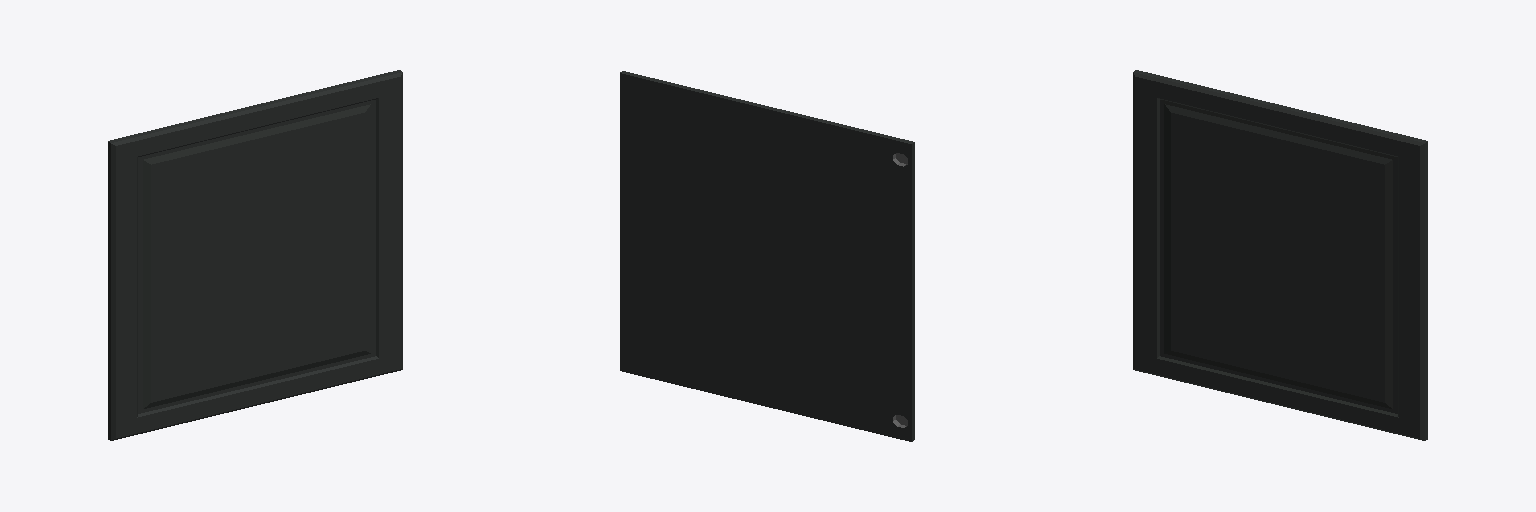
Rendered from IKEA.ART.40221448.obj.
The picture shows the model from 3 angles: view 1: azimuth 30°, elevation 25°; view 2: azimuth 150°, elevation 25°; view 3: azimuth 330°, elevation 25°; orthographic projection.
Parts seen in each view (by area): view 1: model_model.037; view 2: model_model.037; view 3: model_model.037.
Part boxes in pixels (bbox=[...]): model_model.037: bbox=[108, 70, 402, 440]; model_model.037: bbox=[620, 71, 914, 441]; model_model.037: bbox=[1133, 70, 1427, 440].
Size of the model in its own units: 0.597 by 0.582 by 0.016.